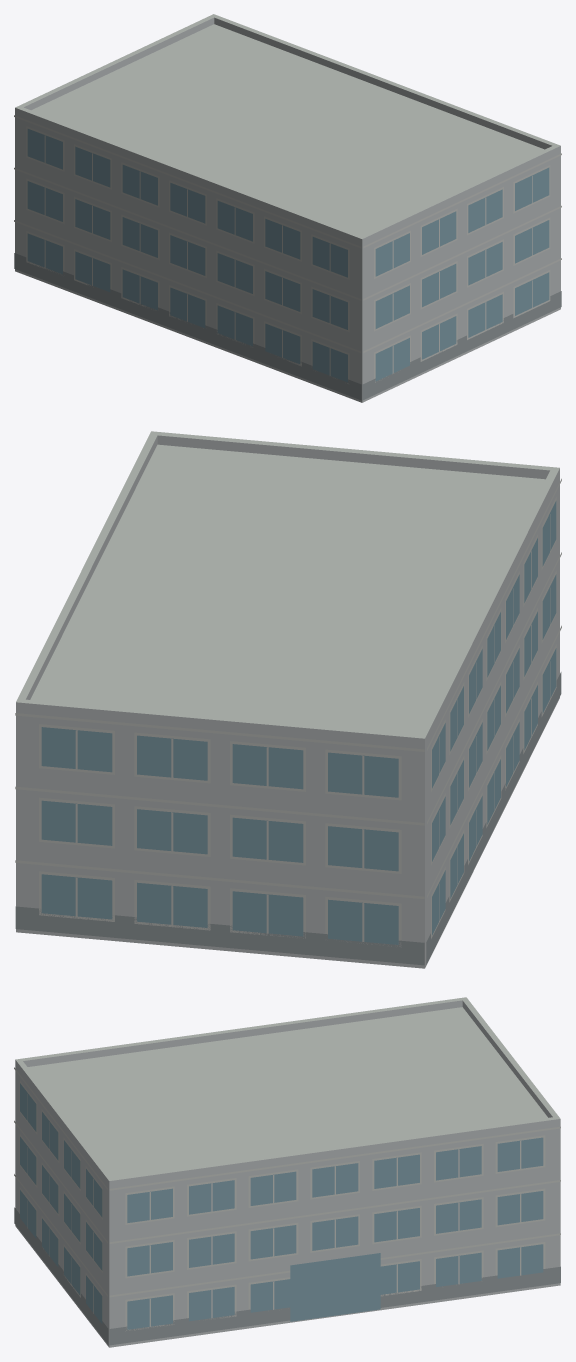
The model's file is public-ec88efcc-f99d-4705-afa4-b3eac03731e8.glb.
3 renders of one model, top to bottom at view 1: azimuth 30°, elevation 25°; view 2: azimuth 150°, elevation 25°; view 3: azimuth 270°, elevation 25°, orthographic. The views are drawn at different scales.
Parts seen in each view (by area): view 1: public-ec88efcc-f99d-4705-afa4-b3eac03731e8; view 2: public-ec88efcc-f99d-4705-afa4-b3eac03731e8; view 3: public-ec88efcc-f99d-4705-afa4-b3eac03731e8.
Part boxes in pixels (box(x1,y1,x2,y2)): public-ec88efcc-f99d-4705-afa4-b3eac03731e8: box(14, 14, 561, 402); public-ec88efcc-f99d-4705-afa4-b3eac03731e8: box(15, 431, 561, 968); public-ec88efcc-f99d-4705-afa4-b3eac03731e8: box(14, 997, 560, 1347).
Size of the model in its own units: 21.8 by 9.15 by 27.27.
